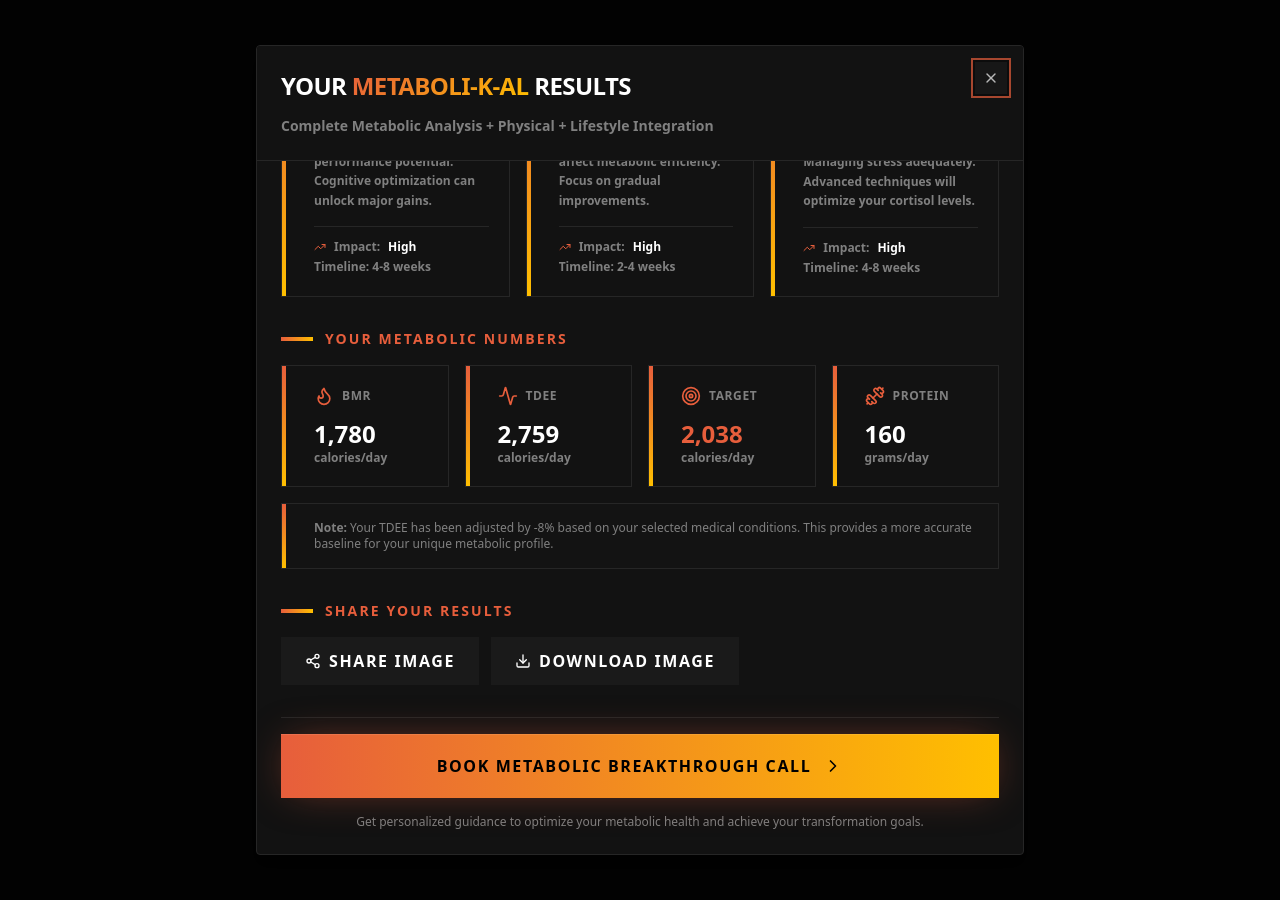
Test: ResultsModal › Copy Text handler › shows Copied! state when Copy Text button is clicked
(page scrolled)
Note: Click share to reveal Copy Text button
Click the button "Share Image" at (380, 660), box [281,636,479,684]
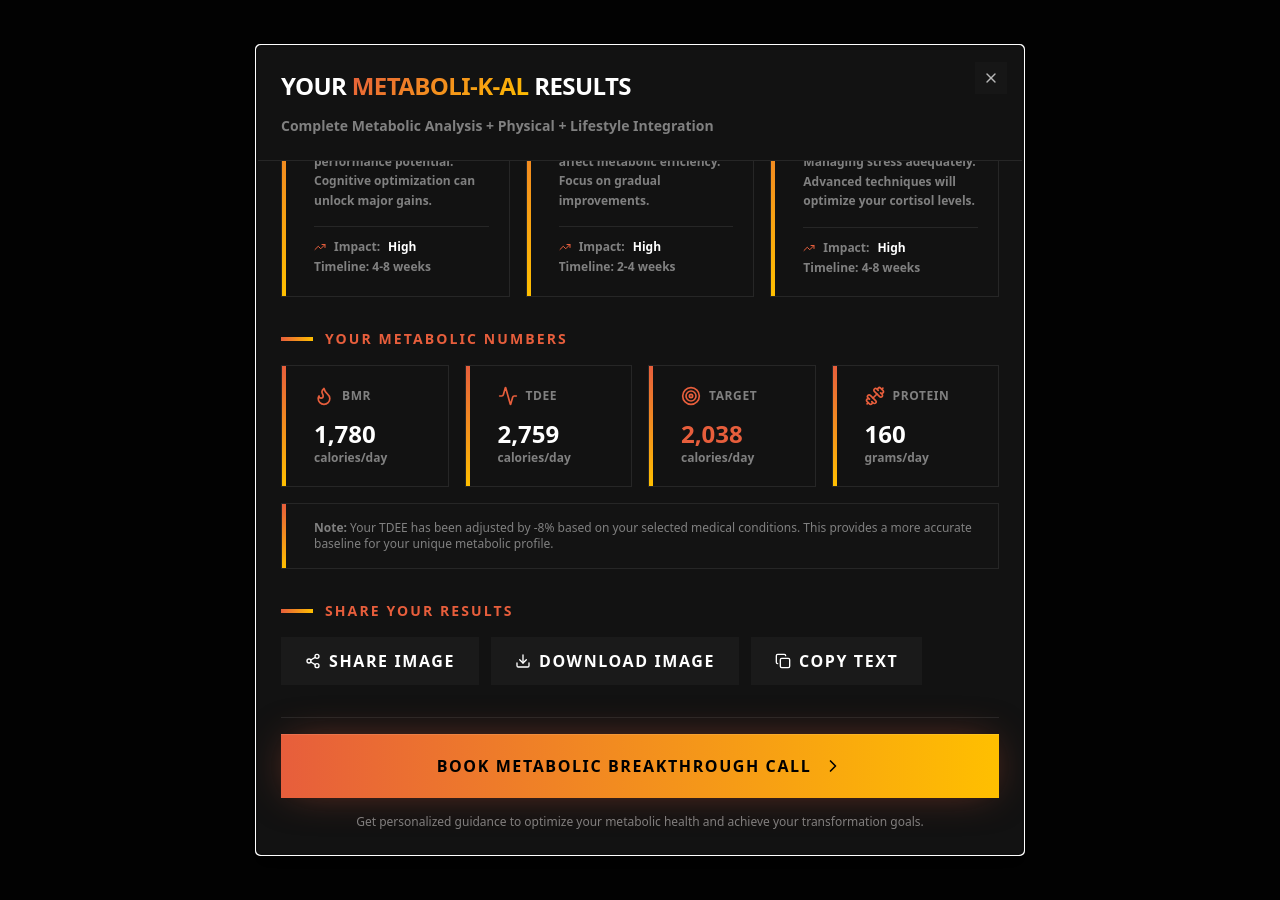
Note: Wait for Copy Text to appear
Click the button "Copy Text" at (837, 660), box [751,636,922,684]
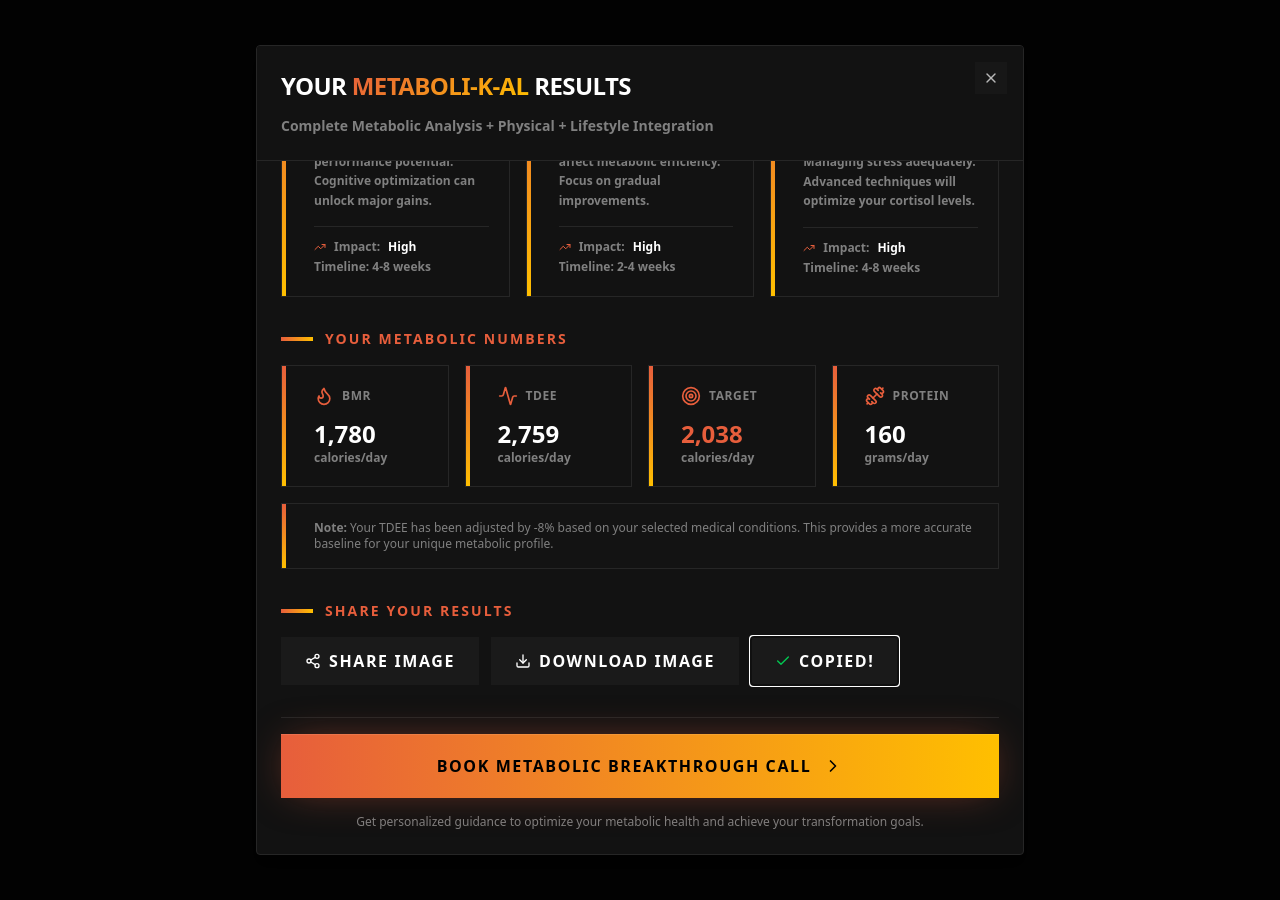
Check: the button "Copied!" is shown, box [751,636,898,684]
